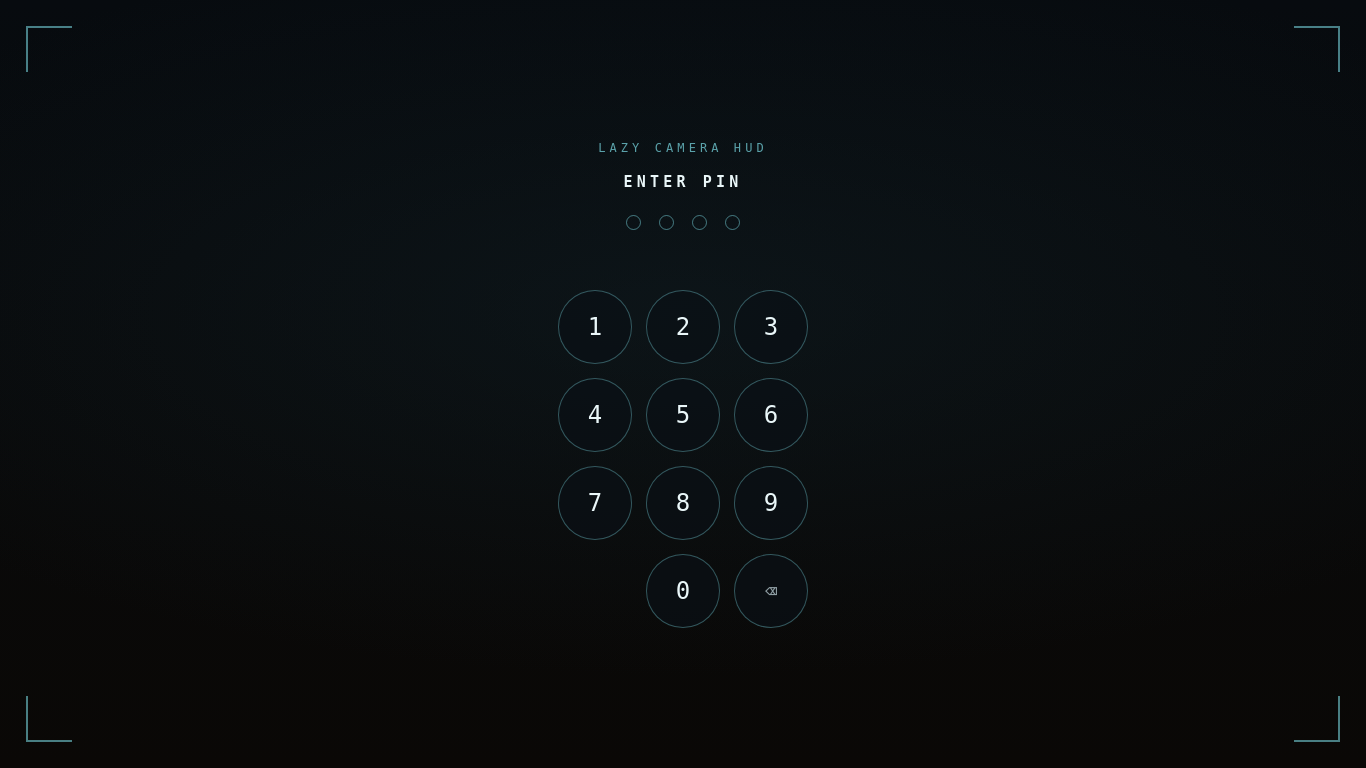
Test case: PinGate — enter mode › shows ACCESS DENIED and does not unlock on a wrong PIN
The width and height of the screenshot is (1366, 768).
What coordinates should you click on to do the following:
click the button "0"
I would click on:
 (683, 590)
Its box is [646, 554, 720, 628].
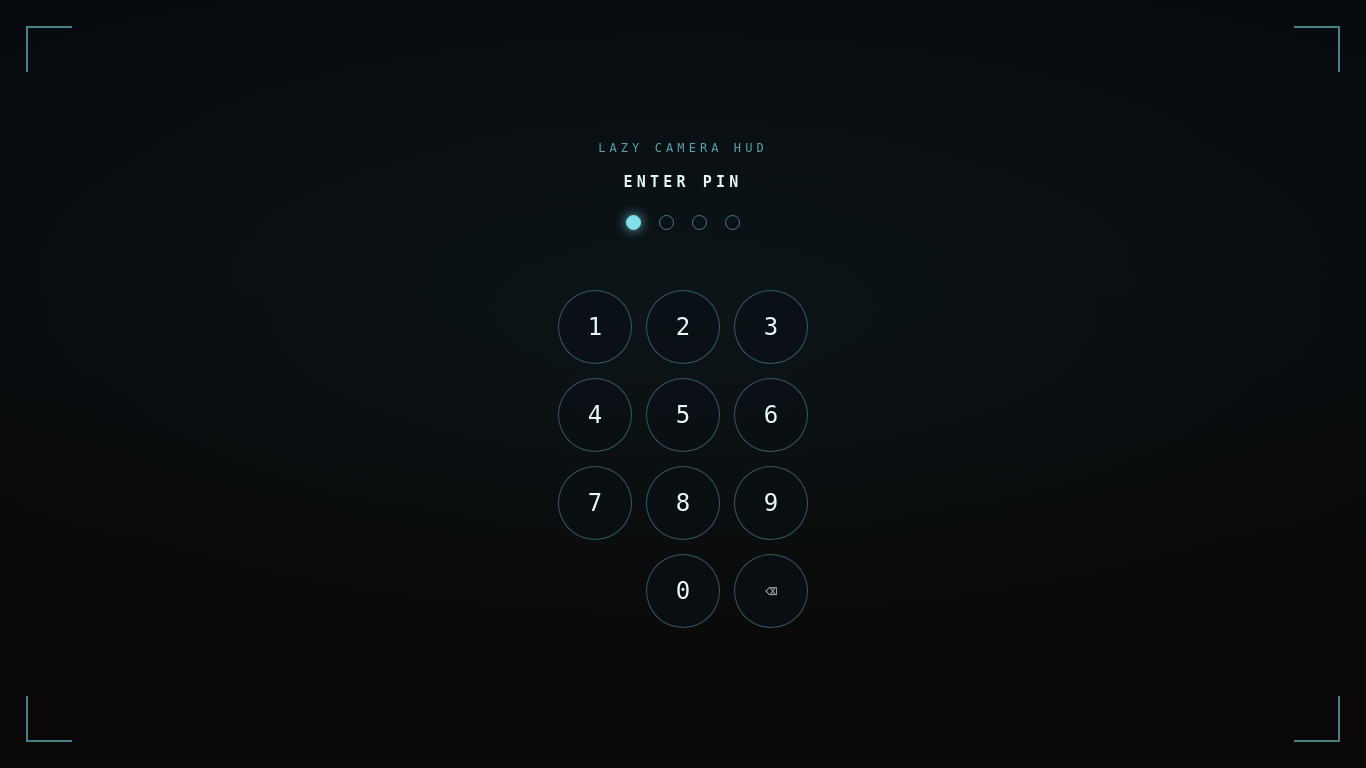
What coordinates should you click on to do the following:
click the button "0"
I would click on:
 (683, 590)
Its box is [646, 554, 720, 628].
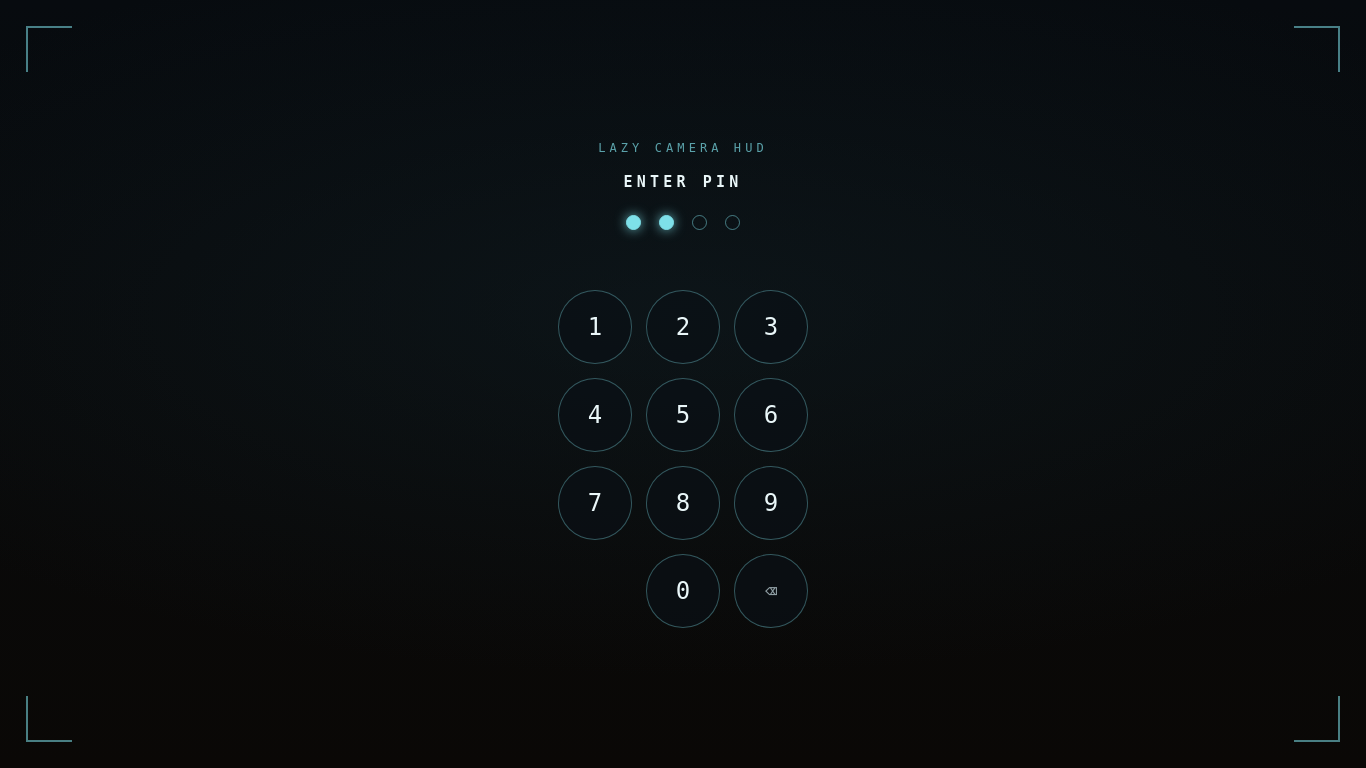
What coordinates should you click on to do the following:
click the button "0"
I would click on:
 (683, 590)
Its box is [646, 554, 720, 628].
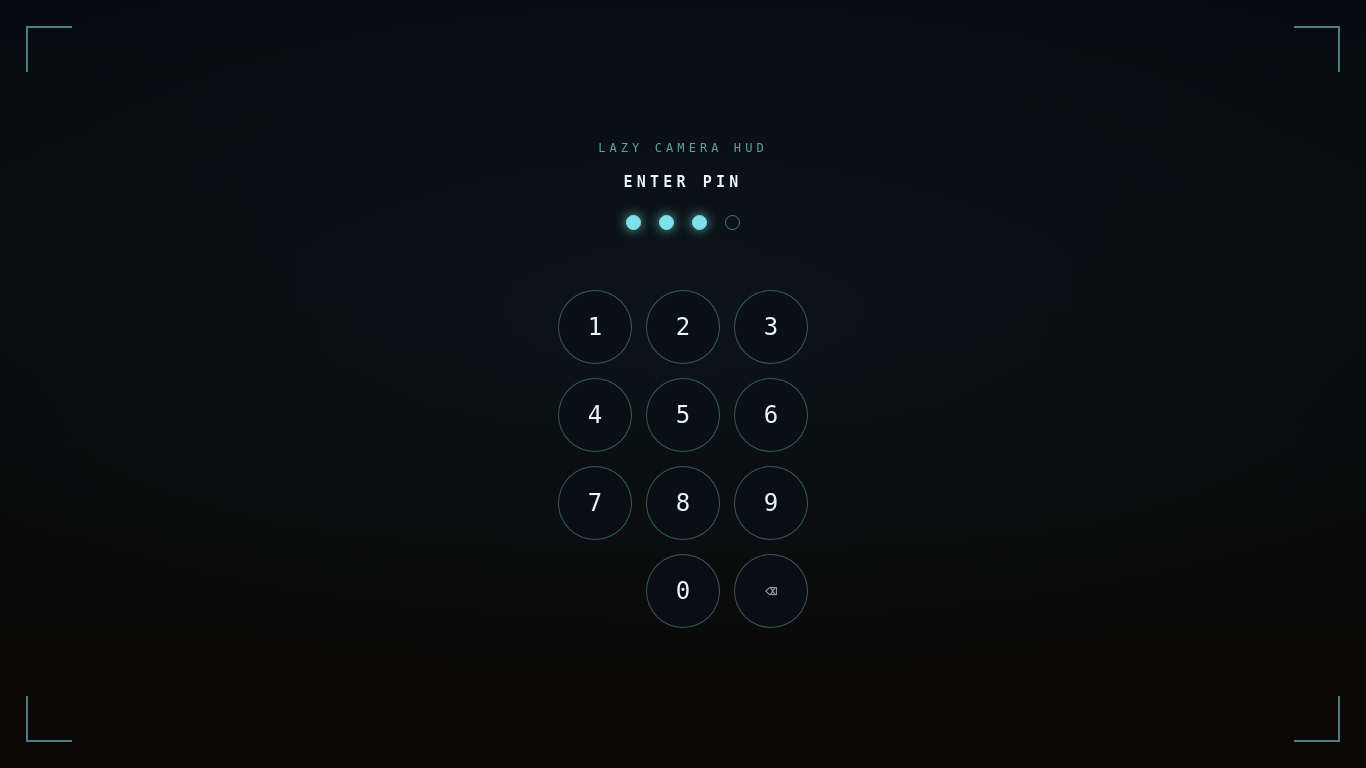
What coordinates should you click on to do the following:
click the button "0"
I would click on:
 (683, 590)
Its box is [646, 554, 720, 628].
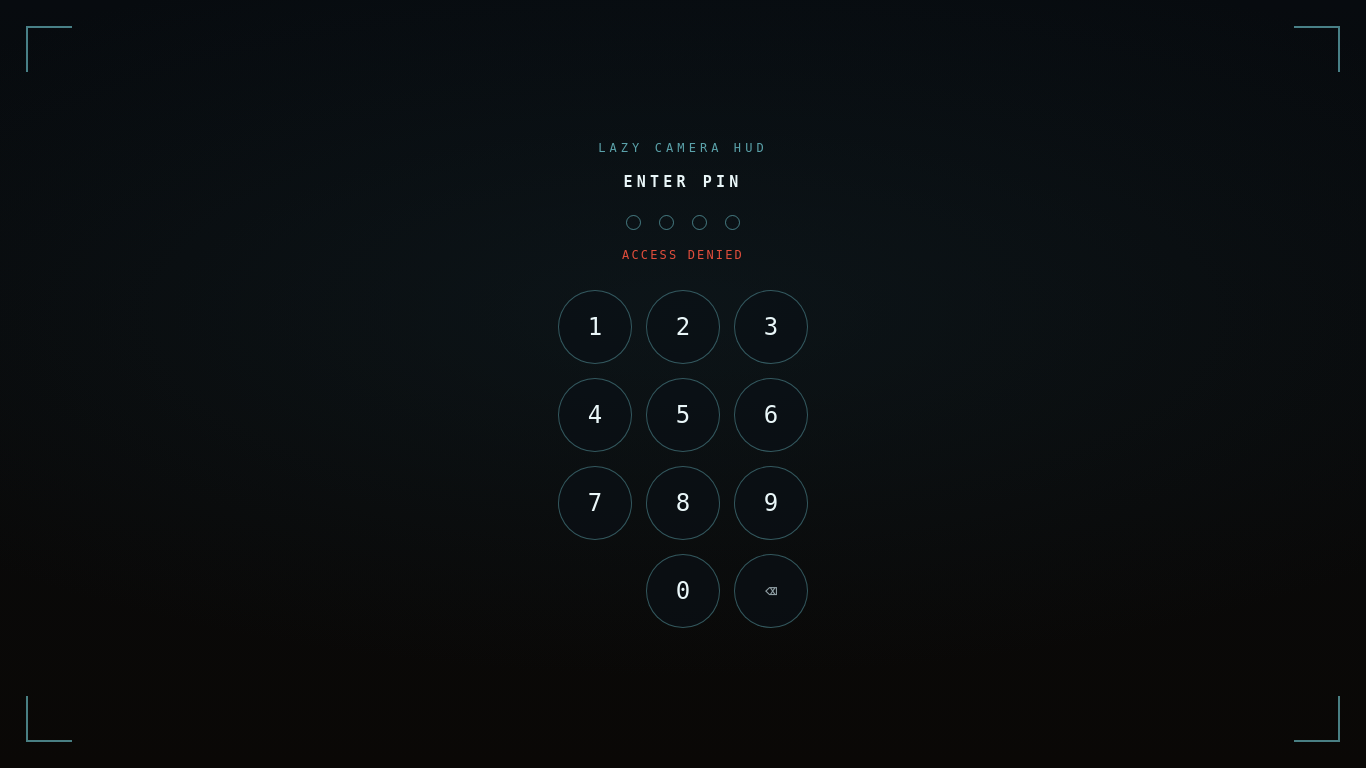
Expected: the text "ACCESS DENIED" is shown, [622, 248, 744, 264]
